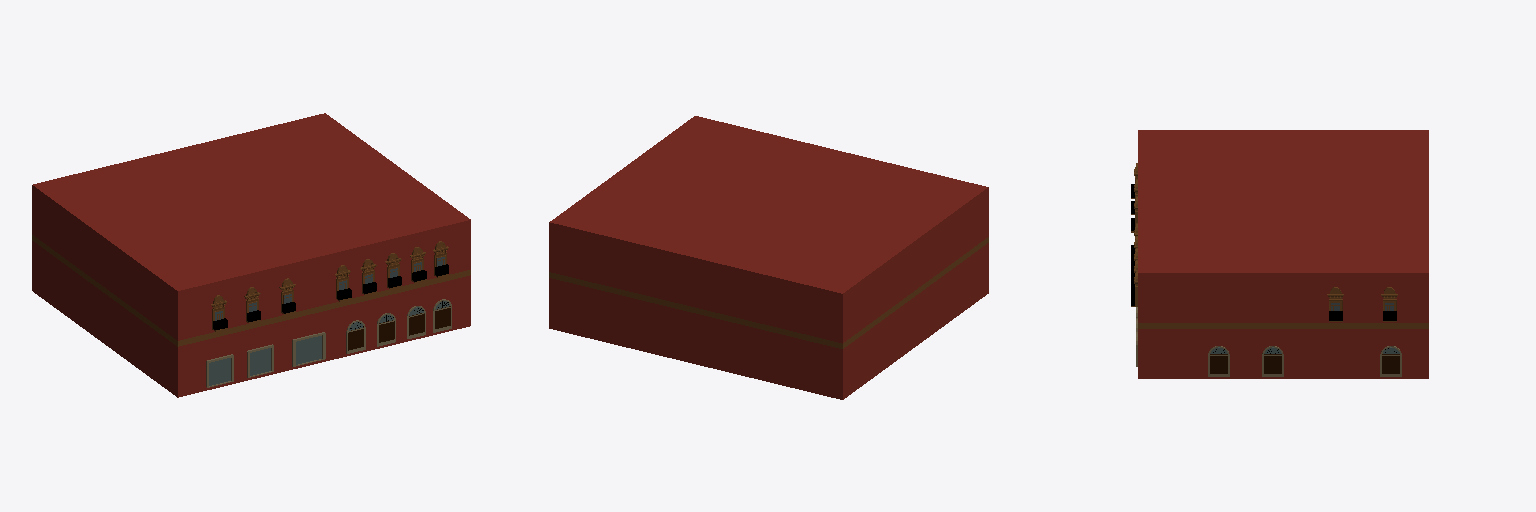
File: edificioB.obj
3 views of the same model, side by side, from view 1: azimuth 30°, elevation 25°; view 2: azimuth 150°, elevation 25°; view 3: azimuth 270°, elevation 25° (orthographic).
Visible parts, largest first — view 1: Cubo; view 2: Cubo; view 3: Cubo.
Part boxes in pixels (bbox=[...]): Cubo: bbox=[32, 113, 470, 397]; Cubo: bbox=[549, 116, 988, 399]; Cubo: bbox=[1131, 130, 1428, 378].
Bounding box in the file's own units: 21.78 × 7.41 × 18.84.